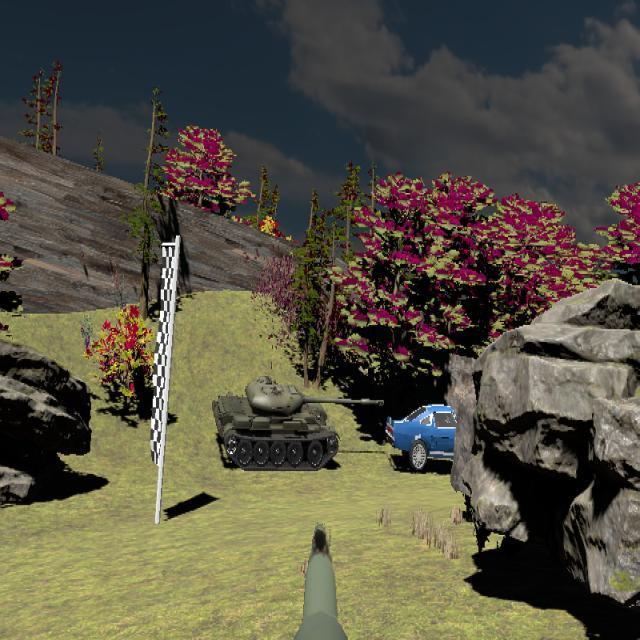Tank: (211, 376, 385, 472)
